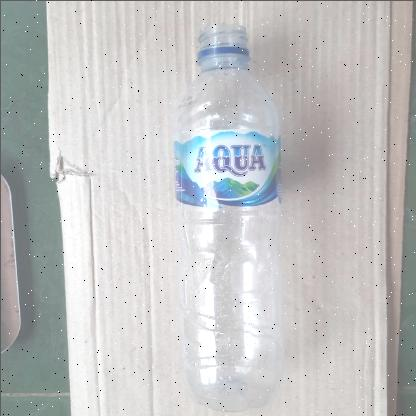Plastic Bottle: (135, 12, 309, 416)
